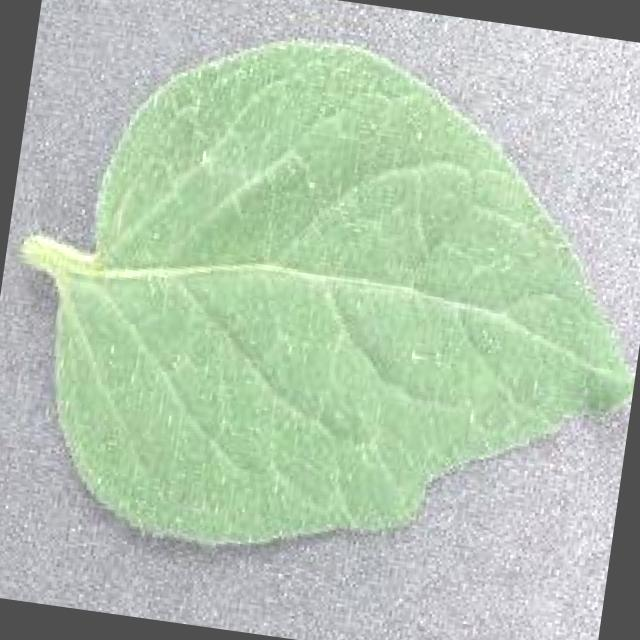healthy: (22, 30, 636, 548)
